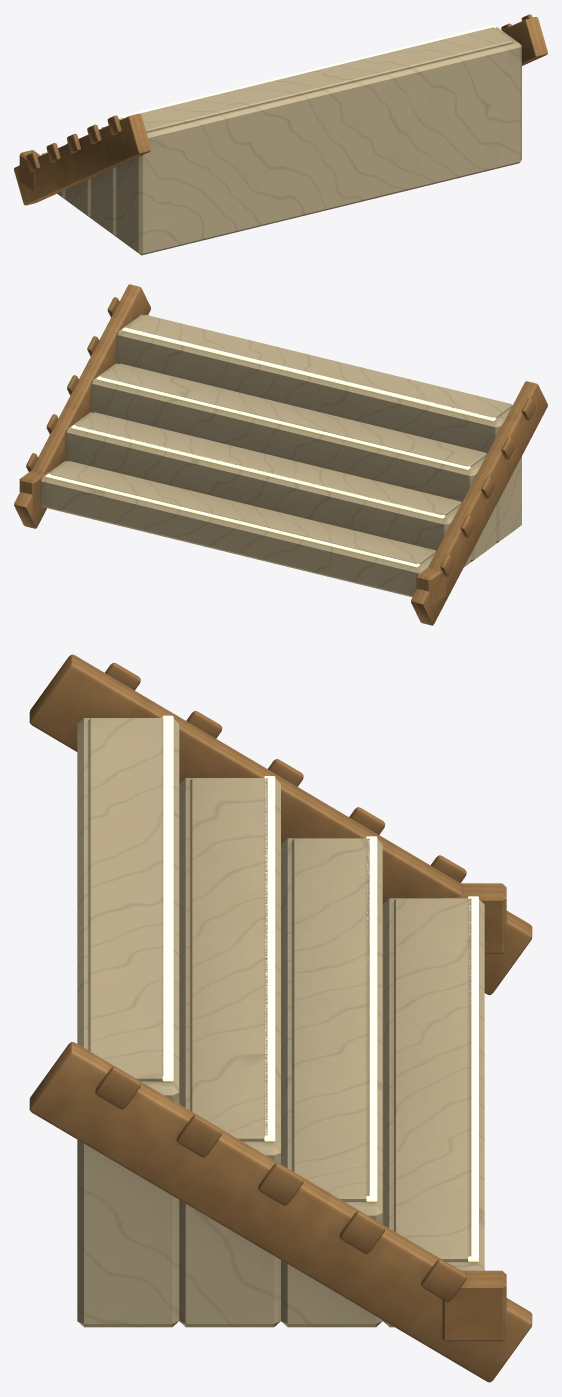
The model's file is stair_module.glb.
3 views of the same model, one above another, from view 1: azimuth 30°, elevation 25°; view 2: azimuth 150°, elevation 25°; view 3: azimuth 270°, elevation 25° (orthographic). The views are drawn at different scales.
Parts seen in each view (by area): view 1: stair_module; view 2: stair_module; view 3: stair_module.
Part boxes in pixels (<box>): stair_module: <box>14,14,547,255</box>; stair_module: <box>14,284,547,625</box>; stair_module: <box>29,654,532,1382</box>.
Bounding box in the file's own units: 4.37 × 1.65 × 2.27.
Materials: 2 (2 with a texture image).
